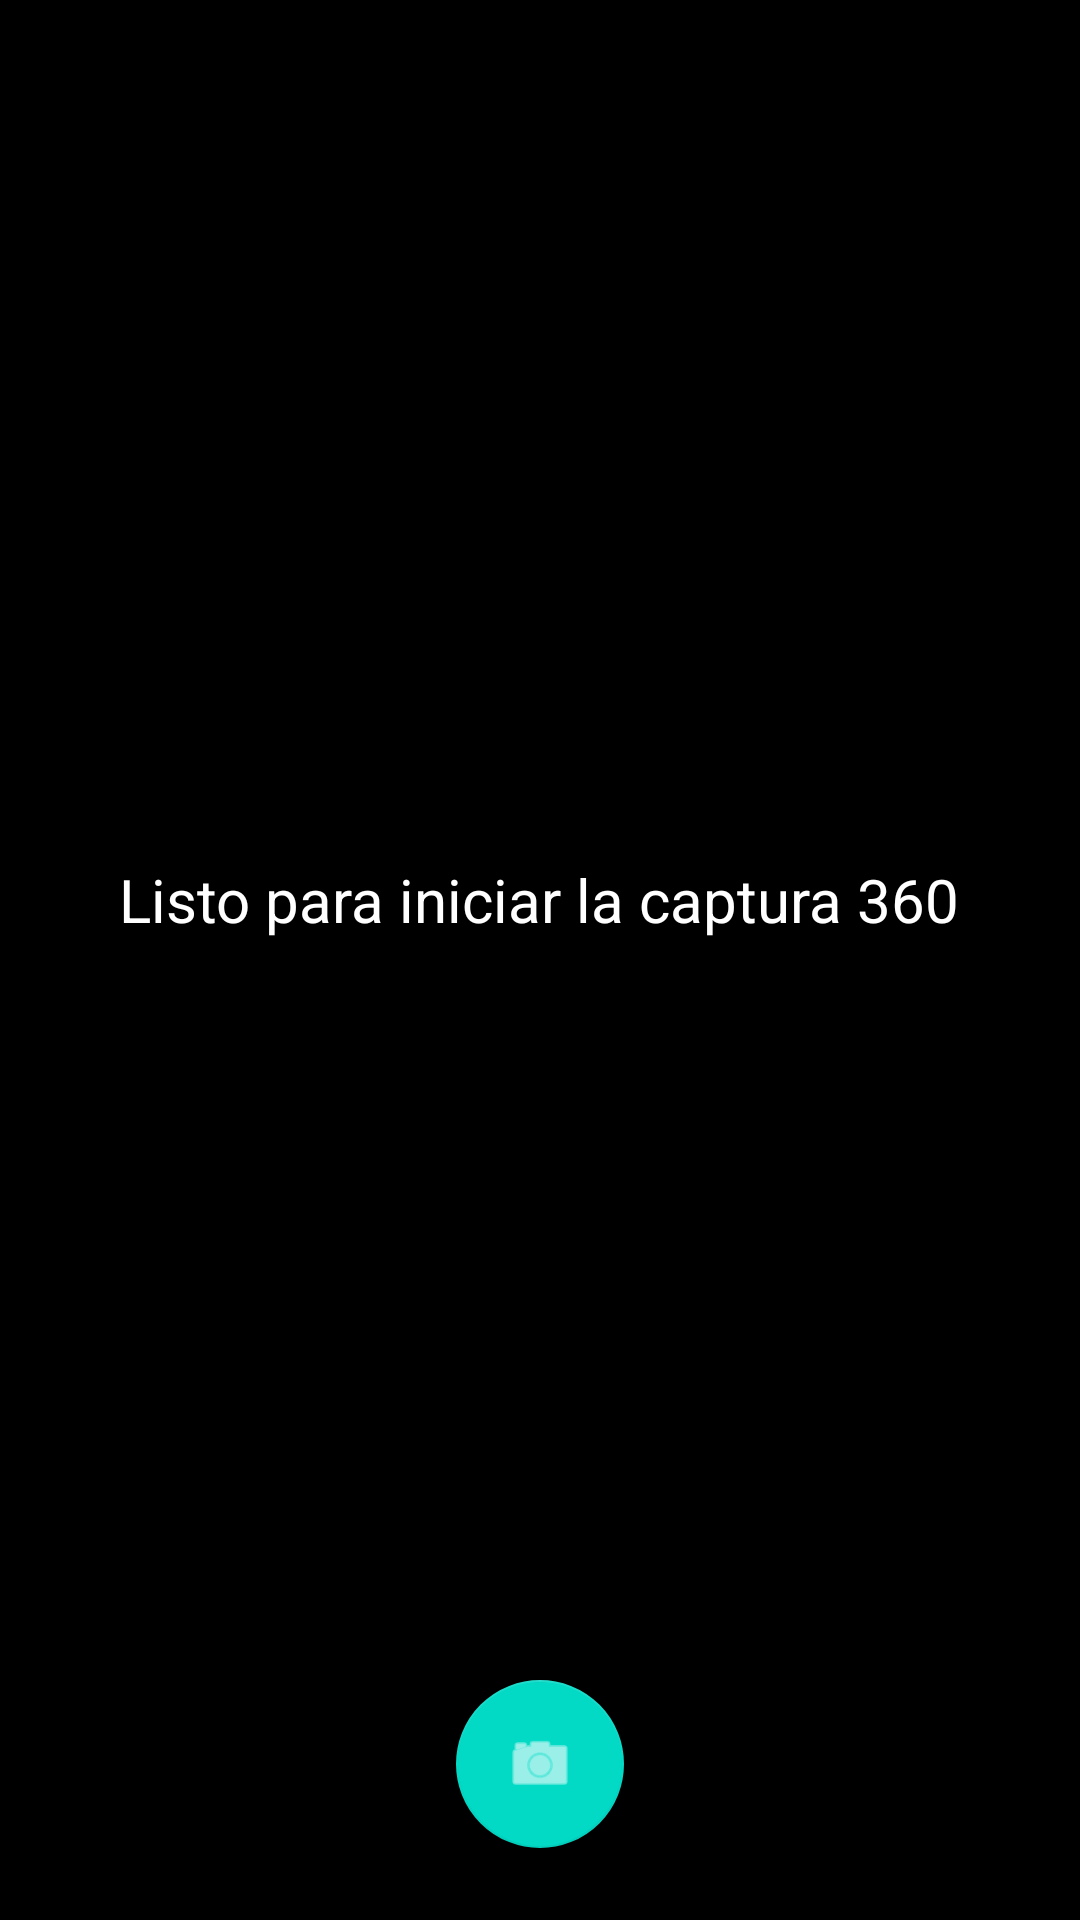

Locate icon controls on the screen. Image size 1080 x 1920, boxes as (x1, y1, x2, y2).
Iniciar captura 360: (456, 1680, 624, 1848)
